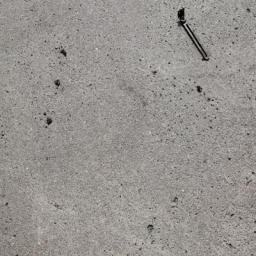FOD: (174, 8, 216, 64)
